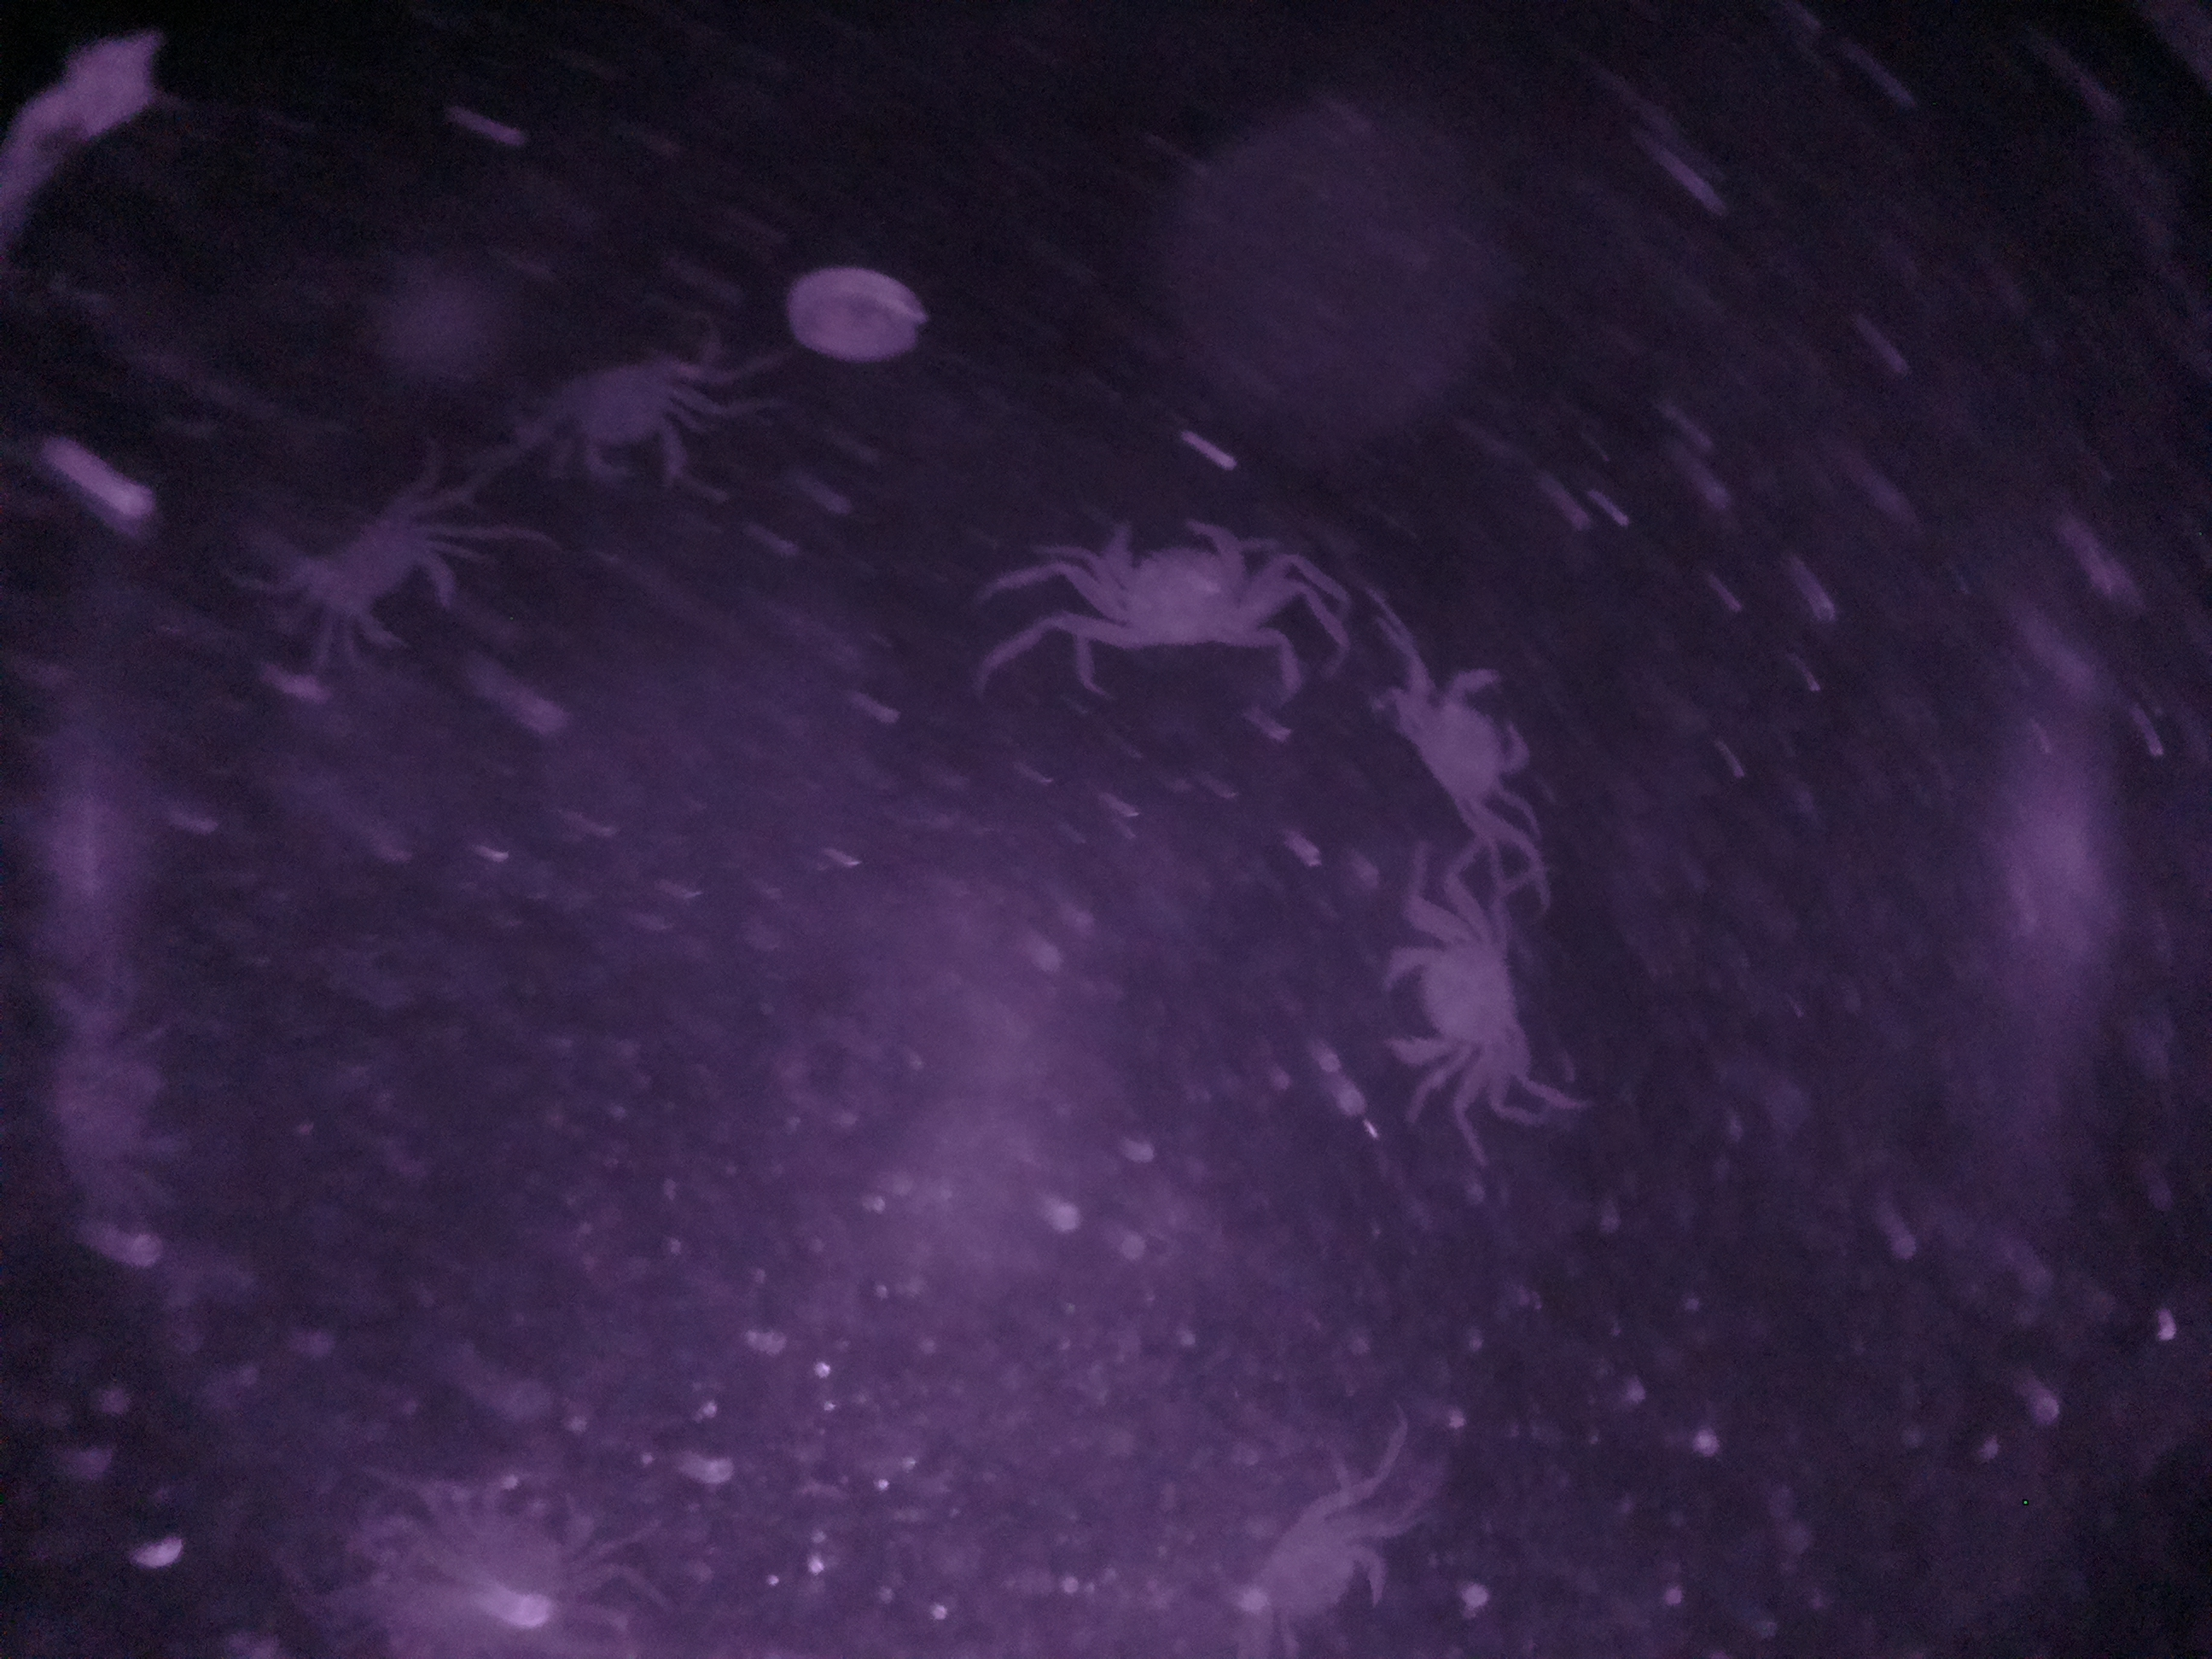Crab: (1362, 892, 1566, 1112), (1043, 502, 1275, 694), (1372, 640, 1562, 864)
